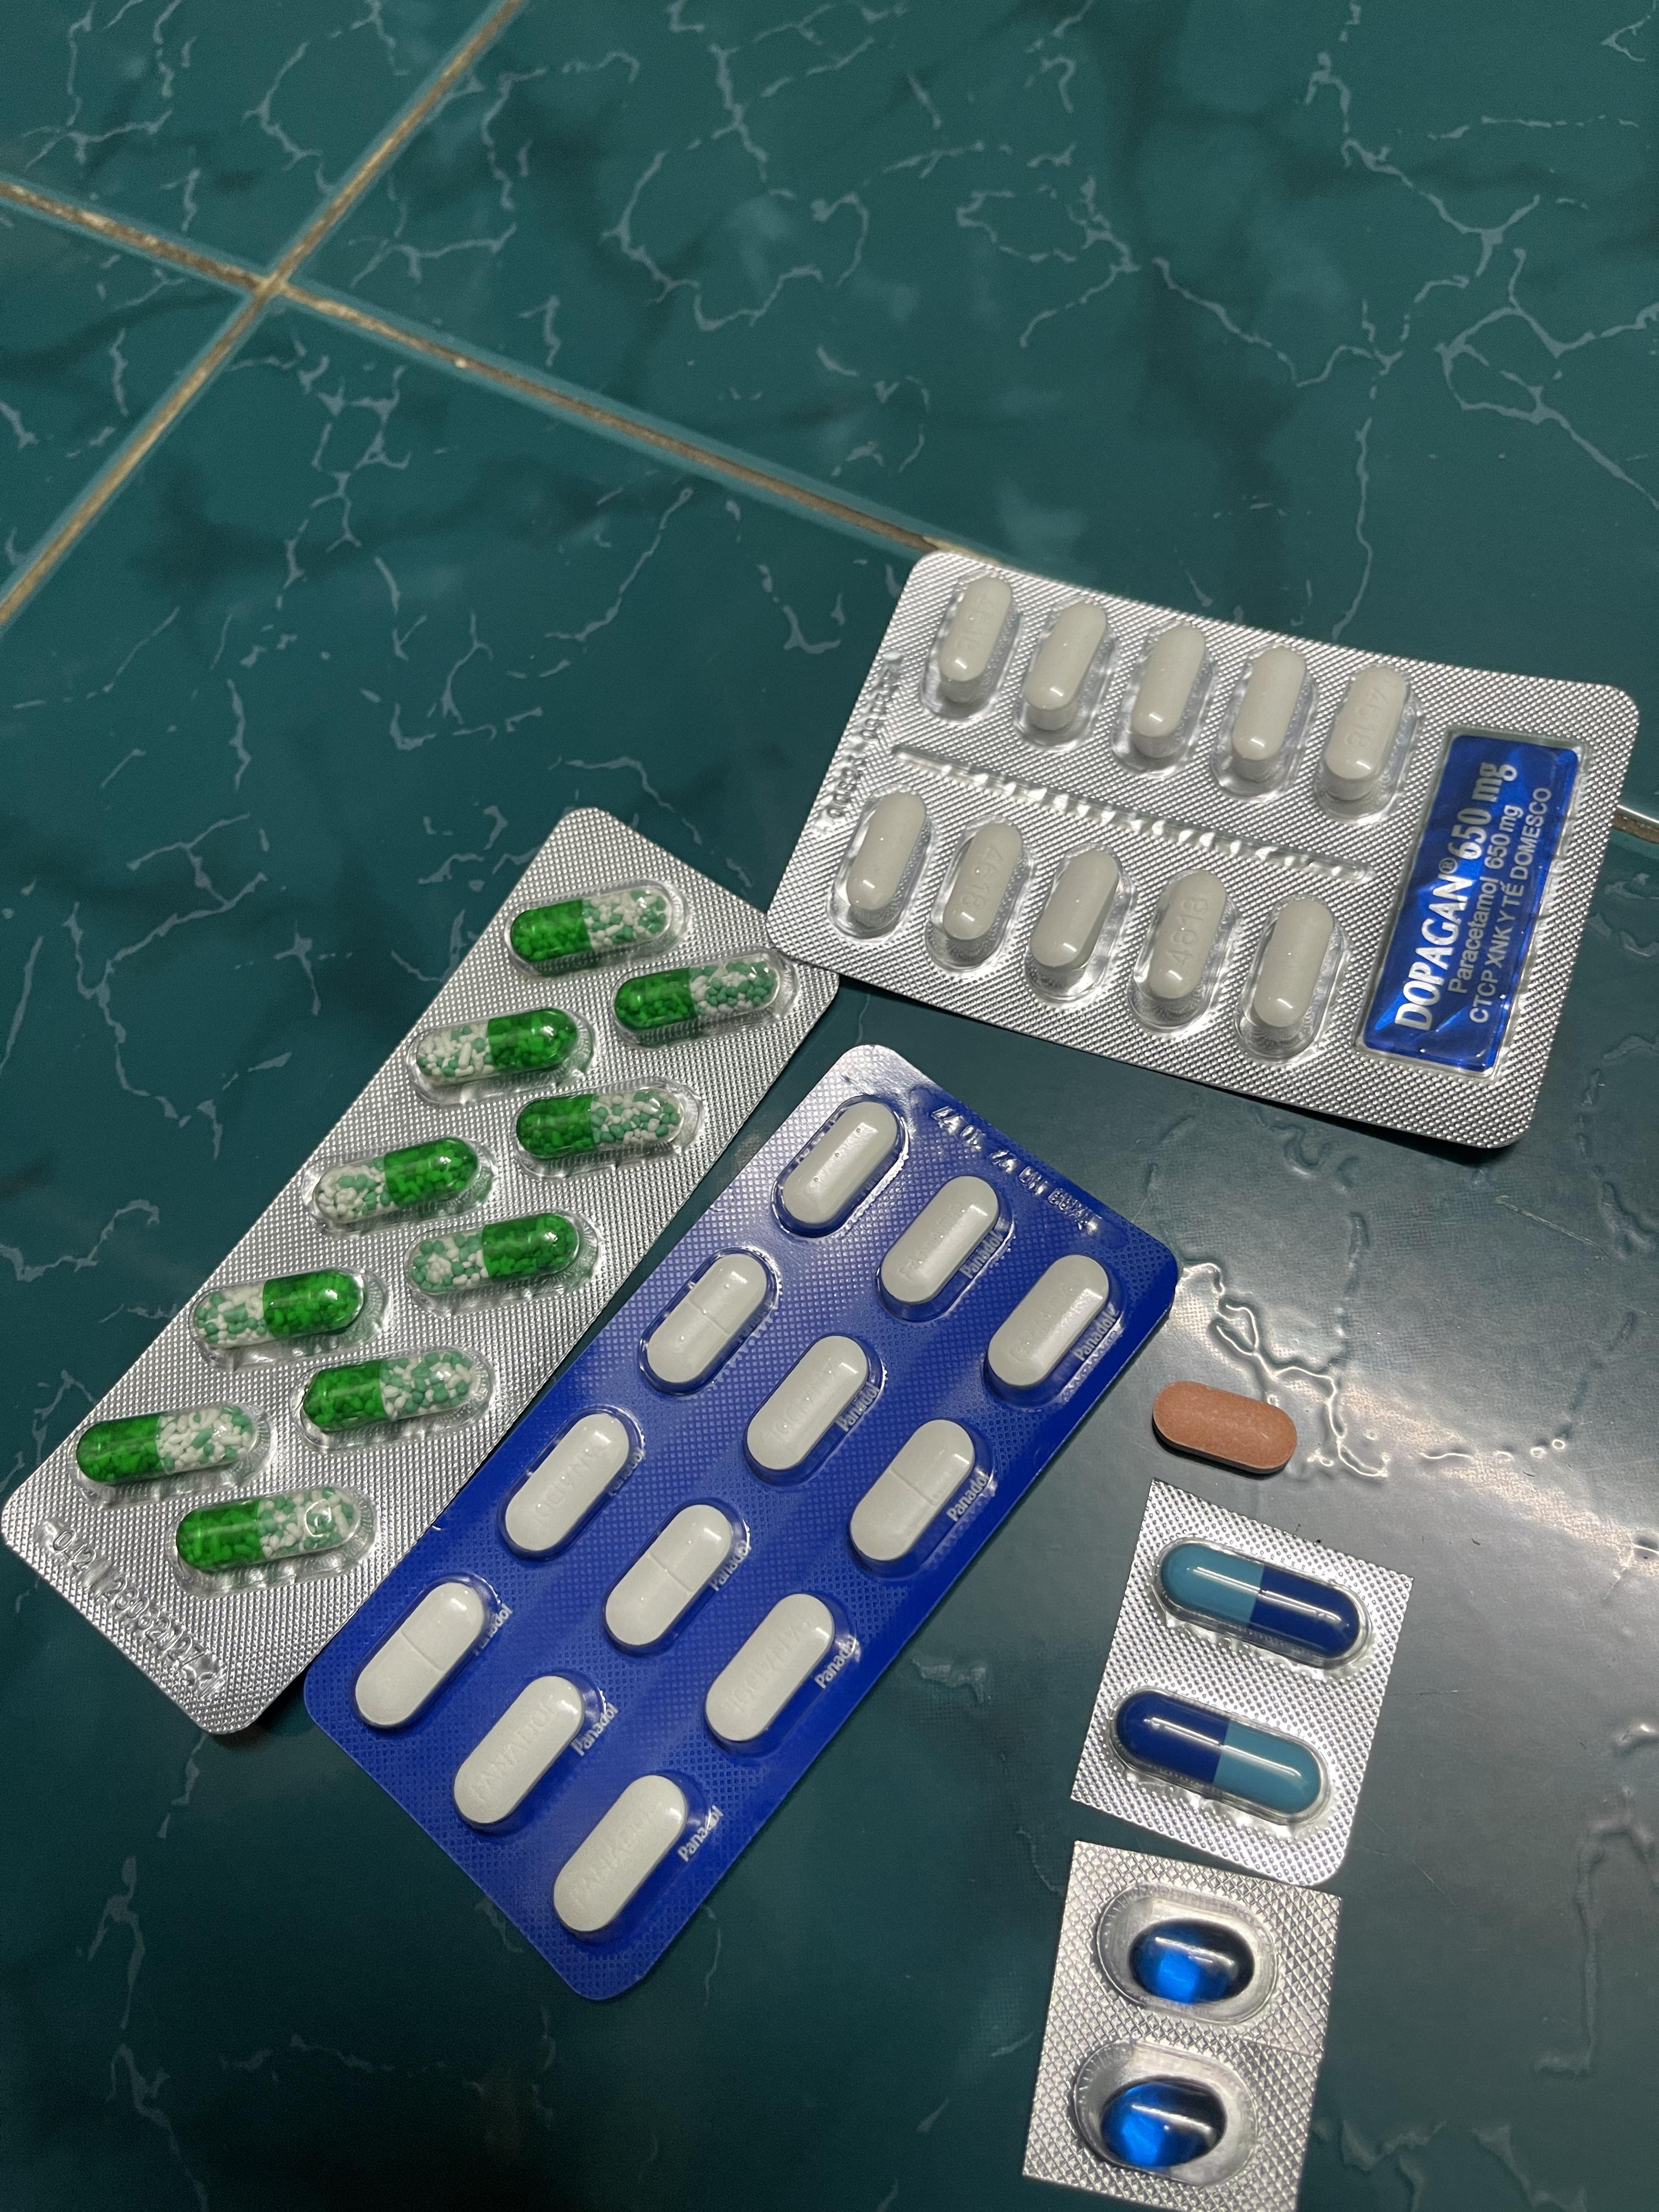Lincomyxin_500mg: (1101, 2081, 1220, 2168), (1131, 1921, 1251, 2003)
Loratadine_10mg: (1150, 1378, 1298, 1477)
Paracetamol_350mg: (554, 1773, 701, 1942), (453, 1672, 596, 1831), (352, 1576, 497, 1731), (702, 1594, 840, 1756), (500, 1409, 645, 1562), (603, 1501, 744, 1655), (742, 1329, 878, 1487), (643, 1247, 784, 1397), (849, 1420, 981, 1578), (878, 1169, 1006, 1313), (986, 1252, 1110, 1400), (774, 1096, 899, 1231)
Paracetamol_500mg: (1026, 845, 1127, 1003), (931, 817, 1030, 963), (1134, 864, 1227, 1017), (1319, 660, 1410, 799), (1249, 897, 1335, 1033), (1019, 604, 1107, 737), (1129, 627, 1209, 758), (932, 577, 1012, 707), (1229, 644, 1309, 773), (843, 792, 927, 914)
Paracetamol_650mg: (312, 1136, 488, 1224), (192, 1266, 371, 1350), (176, 1491, 362, 1571), (514, 1082, 694, 1162), (78, 1402, 256, 1480), (300, 1357, 479, 1433), (410, 1216, 580, 1291), (509, 892, 673, 967), (420, 1008, 579, 1082), (619, 967, 769, 1033)
pill: (1122, 1691, 1324, 1825), (1168, 1548, 1361, 1665)
